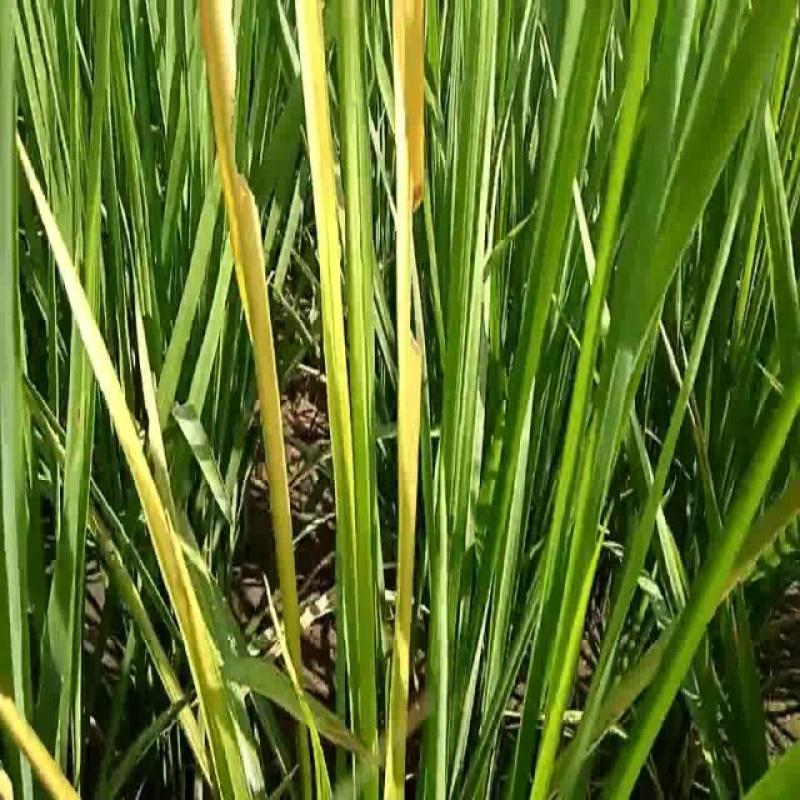Rice Tungro: (13, 128, 215, 678), (195, 2, 307, 602), (292, 3, 362, 538), (383, 1, 428, 590), (1, 691, 79, 800)
